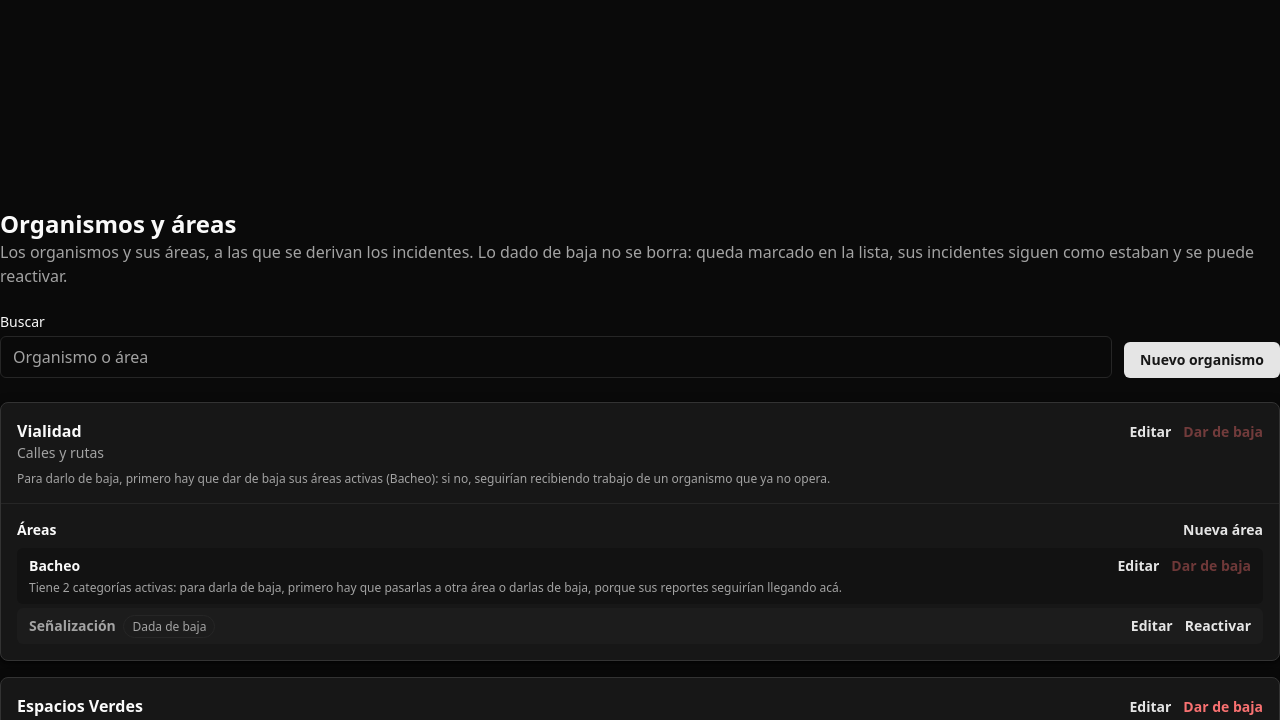
Test: organismos y áreas (F16) › da de alta un organismo; el nombre es obligatorio
This screenshot has width=1280, height=720.
(page scrolled)
Click the button "Nuevo organismo". click: (1202, 360)
box: x1=1124 y1=342 x2=1279 y2=378
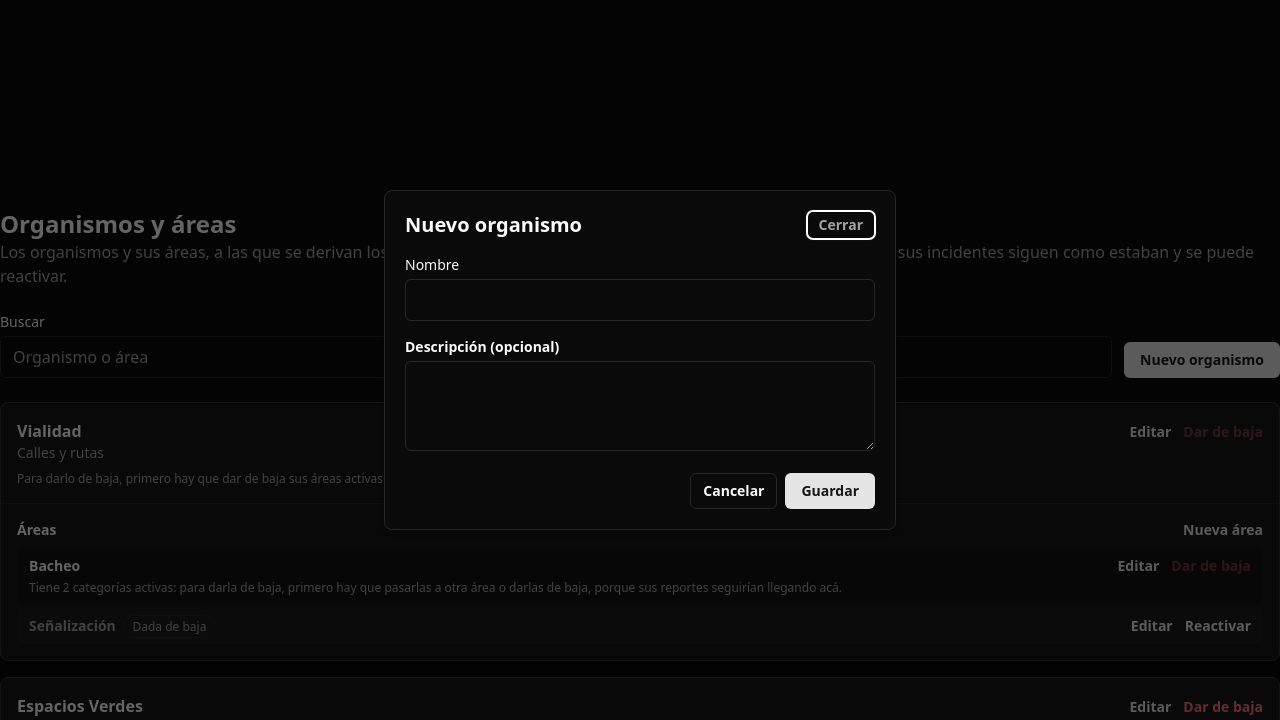
Click the button "Guardar". click: (830, 491)
box: x1=786 y1=473 x2=875 y2=509
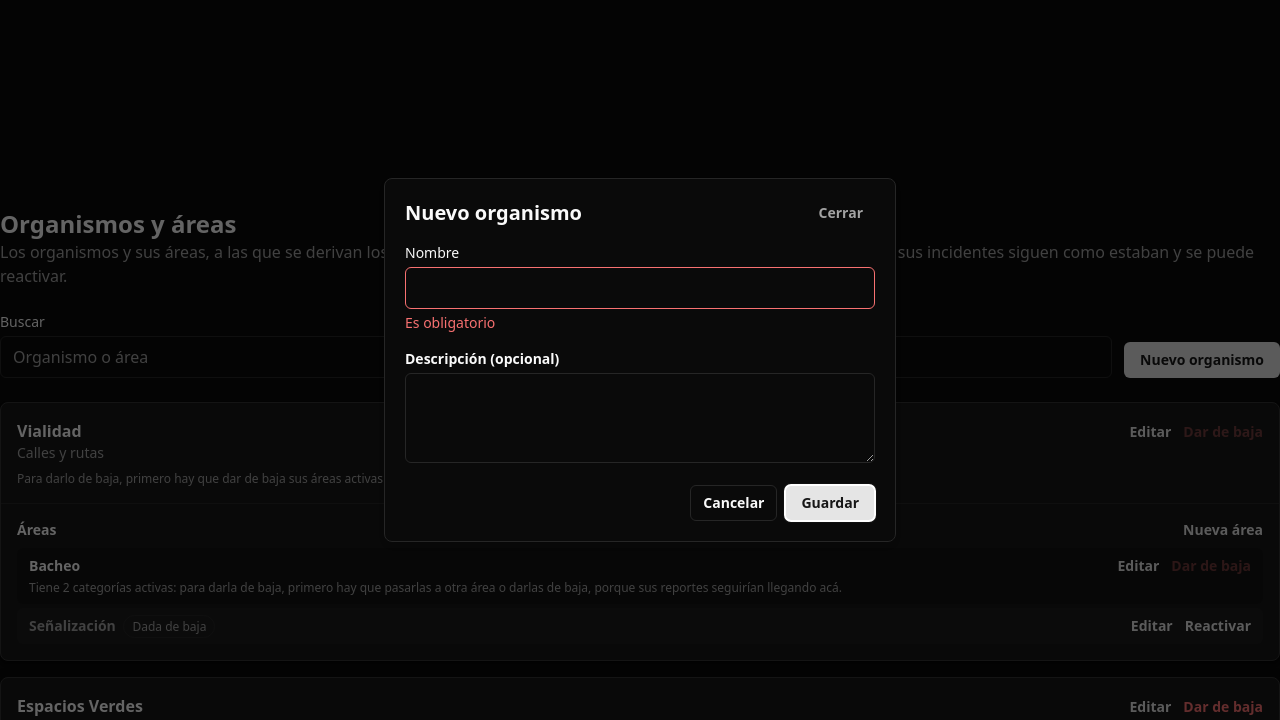
Now the text "Es obligatorio" is shown, box x1=405 y1=313 x2=495 y2=332
Type "  Tránsito " into the field labelled "Nombre". click: (640, 288)
box: x1=405 y1=267 x2=875 y2=309
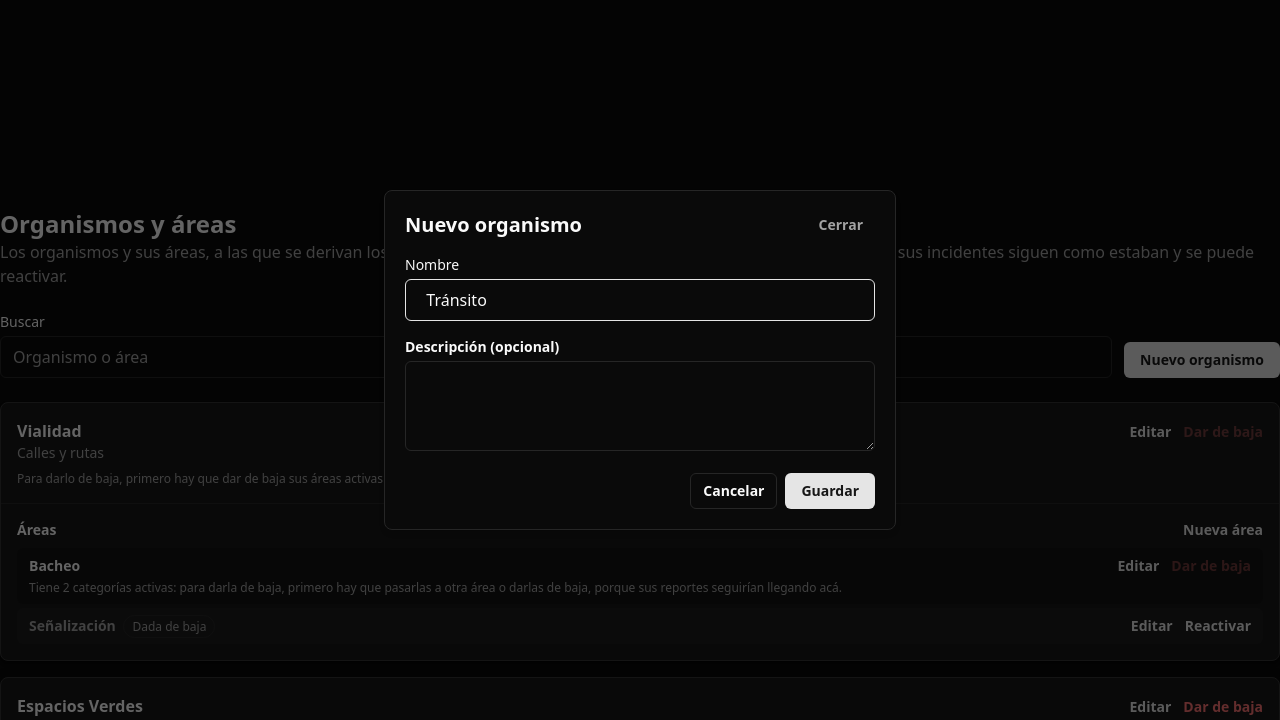
Click the button "Guardar". click: (830, 491)
box: x1=786 y1=473 x2=875 y2=509
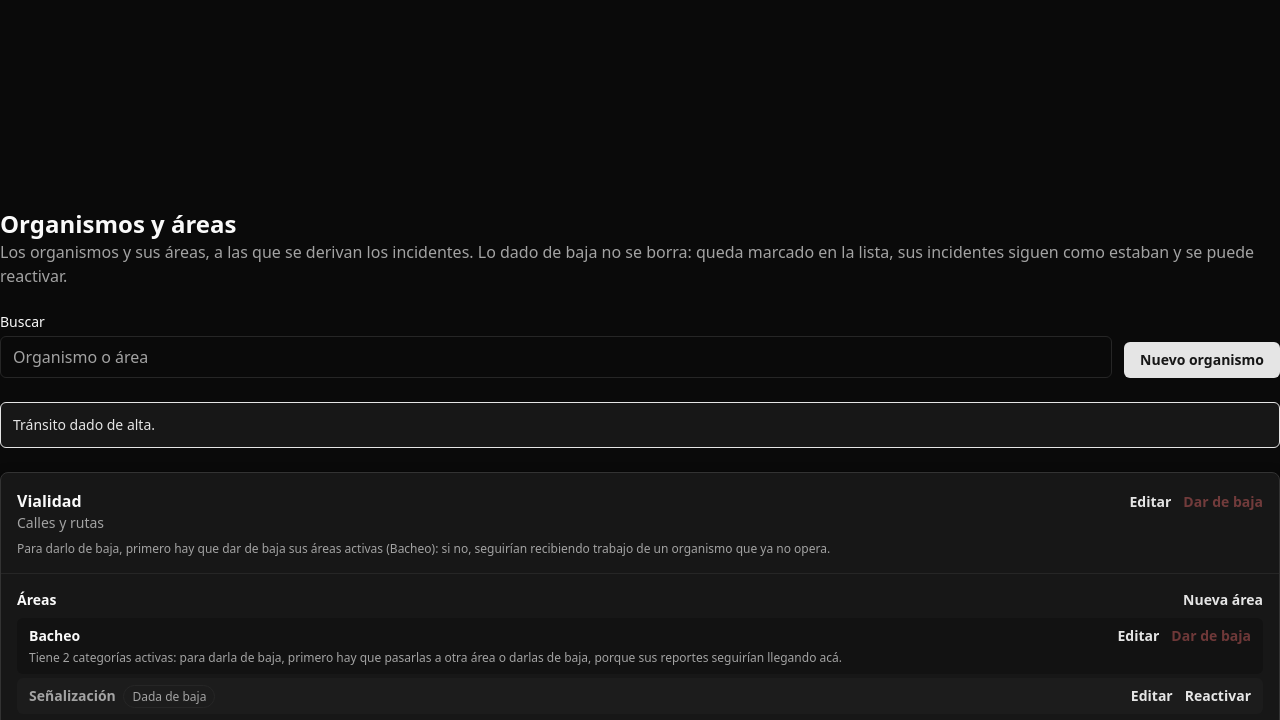
Now the text "Tránsito dado de alta." is shown, box x1=0 y1=402 x2=1279 y2=448
